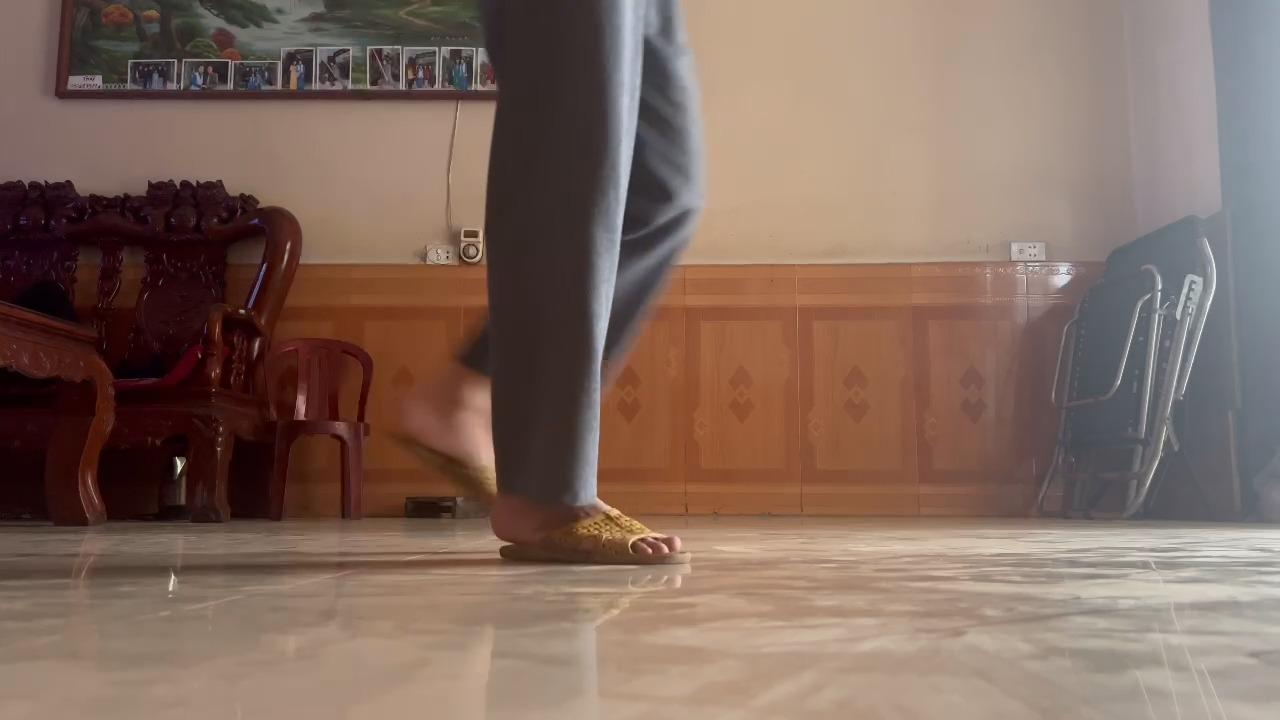no-boot: (492, 506, 696, 577), (383, 377, 497, 504)
